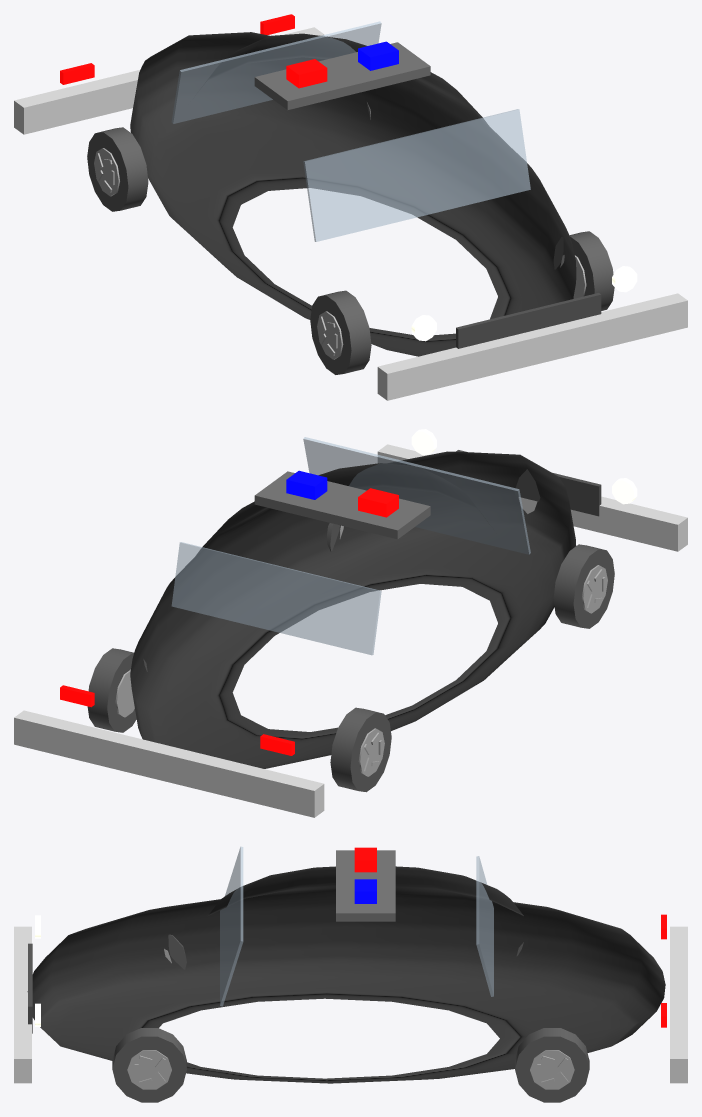
File: police.glb
3 views of the same model, one above another, from view 1: azimuth 30°, elevation 25°; view 2: azimuth 150°, elevation 25°; view 3: azimuth 270°, elevation 25° (orthographic). The views are drawn at different scales.
Visible parts, largest first — view 1: PoliceBody, windshield, front_bumper, rear_window, lightbar_base, rear_bumper, wheel_FL, wheel_RL, grille, wheel_FR, lightbar_red, lightbar_blue; view 2: PoliceBody, rear_window, rear_bumper, windshield, lightbar_base, front_bumper, wheel_RL, wheel_FL, wheel_RR, grille, lightbar_blue, lightbar_red; view 3: PoliceBody, wheel_FR, wheel_RR, lightbar_base, rear_bumper, front_bumper, windshield, rear_window, lightbar_red, lightbar_blue, wheel_FL, grille.
Boxes of the visible parts, x1,y1,x2,y2 form: PoliceBody: (130, 32, 576, 356); windshield: (303, 109, 530, 241); front_bumper: (377, 293, 687, 400); rear_window: (171, 21, 381, 123); lightbar_base: (254, 42, 430, 109); rear_bumper: (14, 27, 324, 134); wheel_FL: (310, 290, 371, 374); wheel_RL: (87, 127, 148, 211); grille: (456, 293, 601, 348); wheel_FR: (553, 231, 614, 310); lightbar_red: (286, 59, 327, 88); lightbar_blue: (358, 41, 398, 70); PoliceBody: (130, 451, 576, 768); rear_window: (171, 542, 381, 655); rear_bumper: (14, 710, 324, 817); windshield: (303, 437, 530, 554); lightbar_base: (254, 471, 430, 539); front_bumper: (377, 444, 687, 551); wheel_RL: (330, 707, 391, 792); wheel_FL: (553, 544, 614, 628); wheel_RR: (87, 648, 147, 732); grille: (456, 450, 601, 516); lightbar_blue: (286, 470, 327, 499); lightbar_red: (358, 488, 398, 517); PoliceBody: (27, 866, 665, 1083); wheel_FR: (112, 1028, 186, 1102); wheel_RR: (515, 1028, 589, 1102); lightbar_base: (336, 850, 395, 921); rear_bumper: (670, 926, 687, 1083); front_bumper: (14, 926, 31, 1083); windshield: (220, 846, 243, 1006); rear_window: (476, 856, 493, 996); lightbar_red: (354, 847, 376, 872); lightbar_blue: (354, 879, 376, 903); wheel_FL: (164, 934, 186, 969); grille: (28, 943, 32, 1033).
Size of the model in its own units: 2.1 by 1.29 by 4.52.
